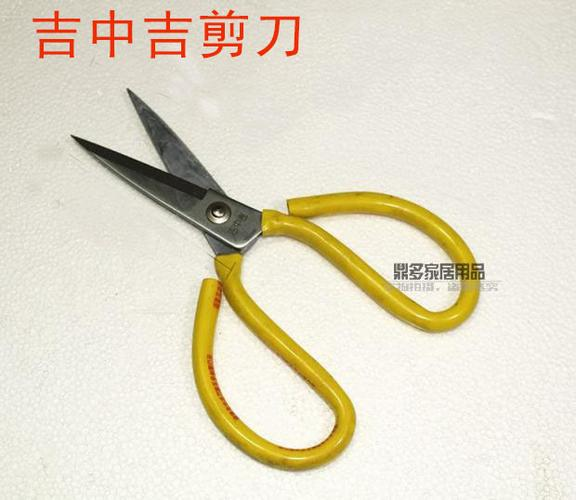scissor: (72, 88, 480, 473)
